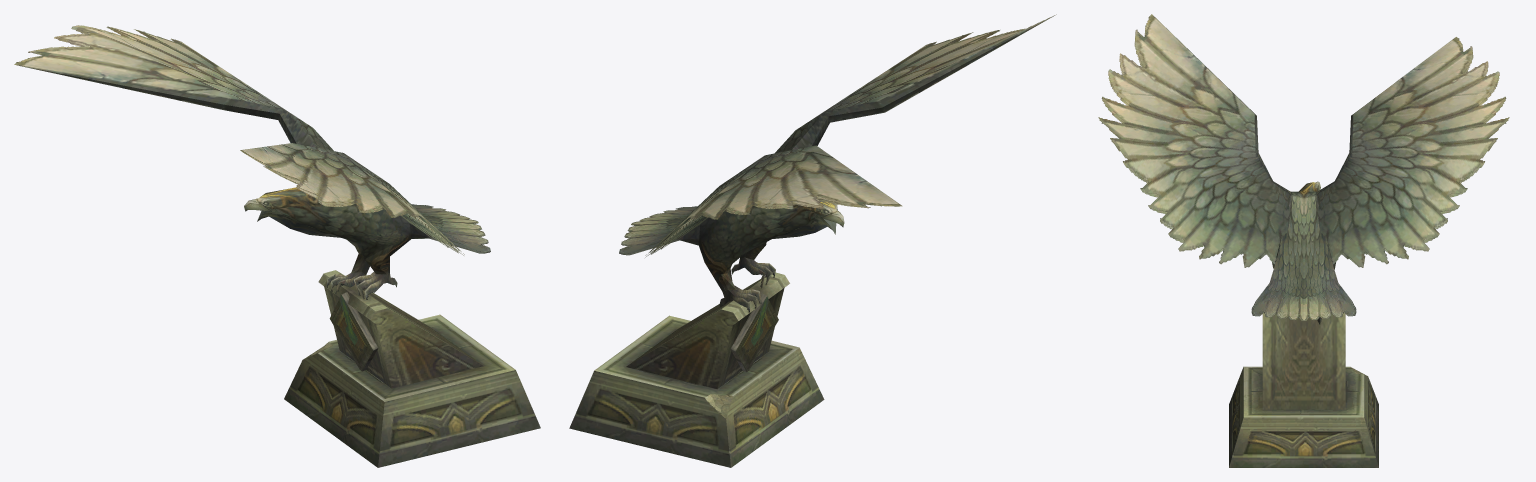
Rendered from Building2.FBX.
3 views of the same model, side by side, from view 1: azimuth 30°, elevation 25°; view 2: azimuth 150°, elevation 25°; view 3: azimuth 270°, elevation 25° (orthographic). The views are drawn at different scales.
Parts seen in each view (by area): view 1: 16ecf568.o, 16ecea60.o; view 2: 16ecea60.o, 16ecf568.o; view 3: 16ecf568.o, 16ecea60.o.
Part boxes in pixels (left/top/right/bottom): 16ecf568.o: left=14, top=25, right=490, bottom=299; 16ecea60.o: left=284, top=270, right=540, bottom=467; 16ecea60.o: left=569, top=272, right=824, bottom=467; 16ecf568.o: left=619, top=14, right=1056, bottom=312; 16ecf568.o: left=1098, top=14, right=1509, bottom=324; 16ecea60.o: left=1229, top=313, right=1378, bottom=467.
Size of the model in its own units: 568 by 563 by 698.
Materials: 2 (2 with a texture image).
